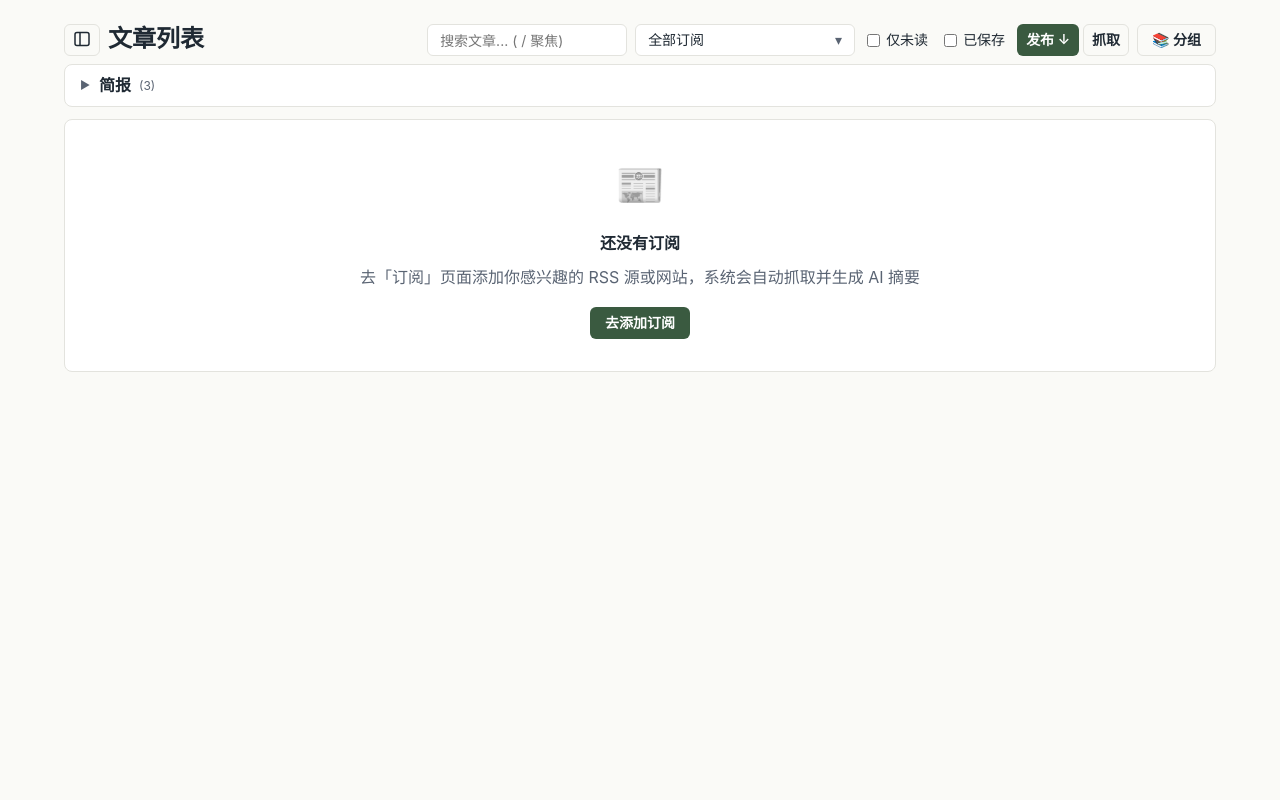
Scenario: ArticleListPage automatic pagination › shows the briefing articles current server and session read state
The image size is (1280, 800).
Click the button "▶ 简报 (3)". click: {"x": 115, "y": 85}
box: x1=65 y1=65 x2=1215 y2=106
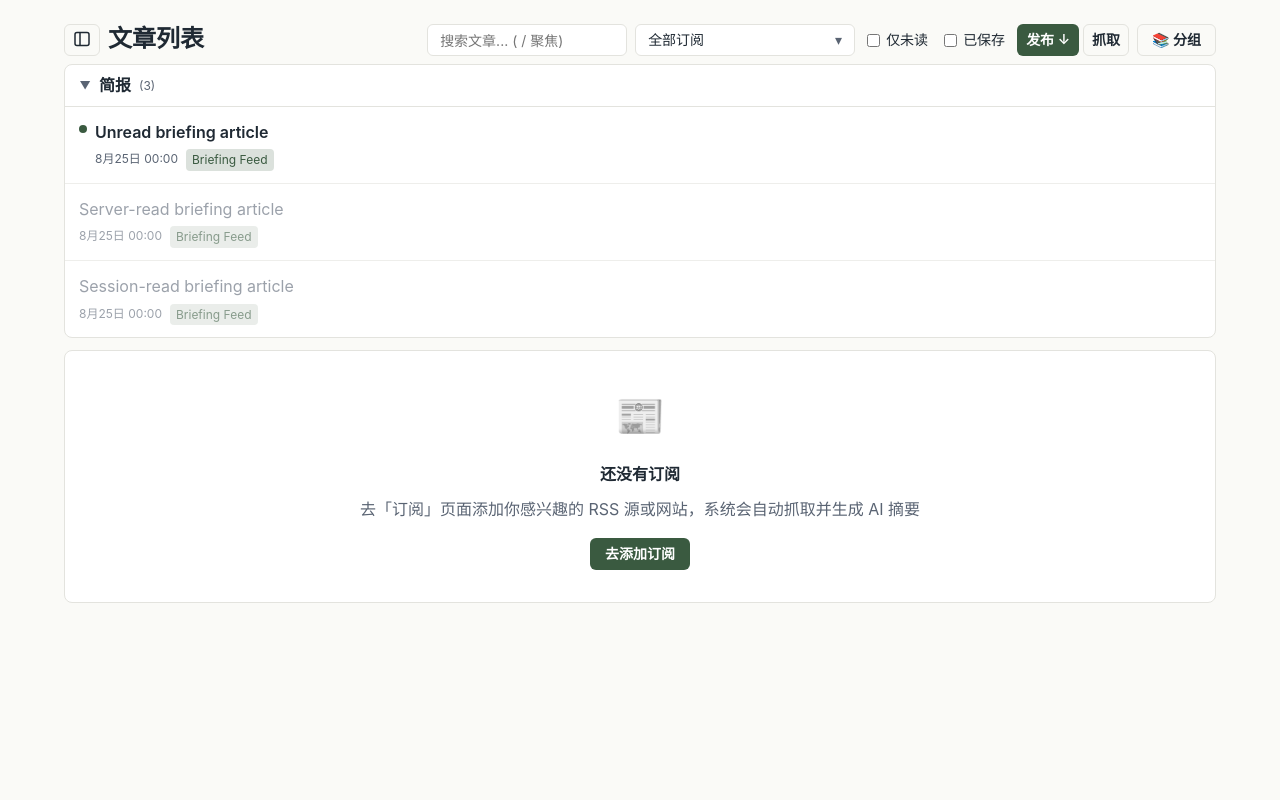
Now the element named "未读" is shown, box x1=79 y1=125 x2=87 y2=133
